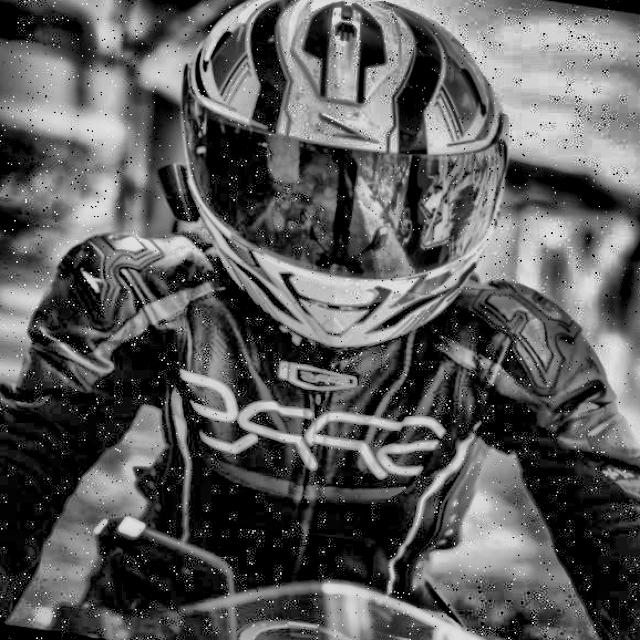Helmet: (150, 0, 532, 371)
